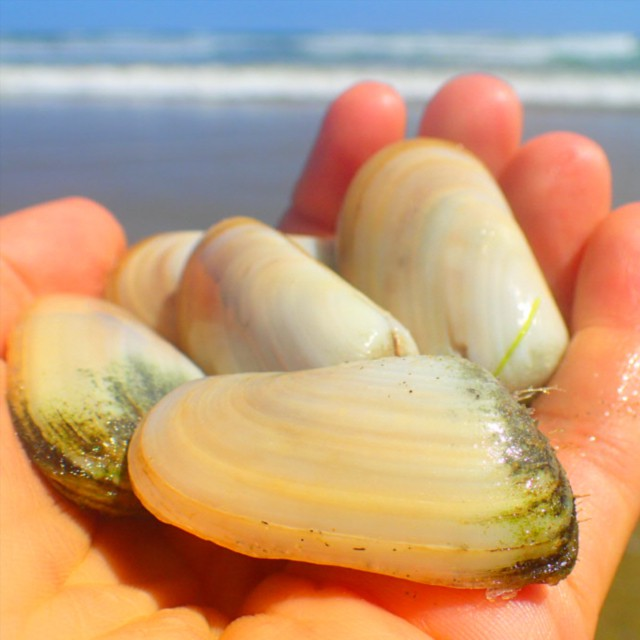tuatua: (126, 352, 578, 582), (348, 135, 566, 387), (179, 215, 413, 363), (12, 295, 170, 502)
